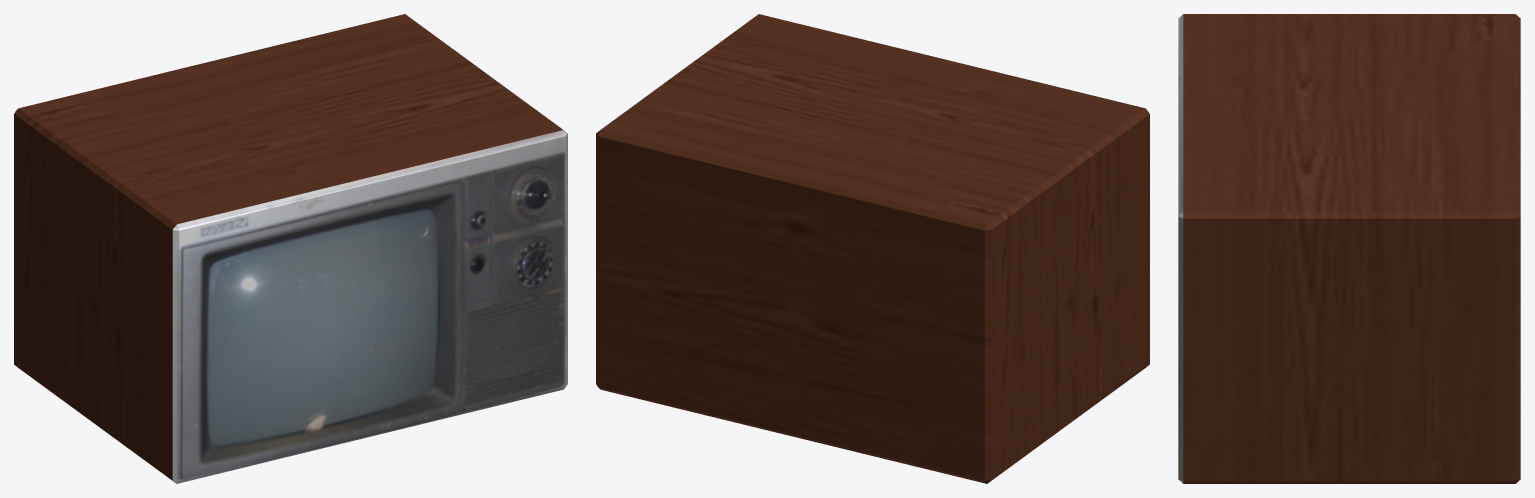
File: XO_newTV.fbx
3 renders of one model, left to right at view 1: azimuth 30°, elevation 25°; view 2: azimuth 150°, elevation 25°; view 3: azimuth 270°, elevation 25°, orthographic. The views are drawn at different scales.
Parts seen in each view (by area): view 1: pCube1; view 2: pCube1; view 3: pCube1.
Part boxes in pixels (box(x1,y1,x2,y2)): pCube1: box(14, 14, 567, 483); pCube1: box(596, 14, 1149, 483); pCube1: box(1178, 14, 1520, 483).
Size of the model in its own units: 502 by 360 by 315.
